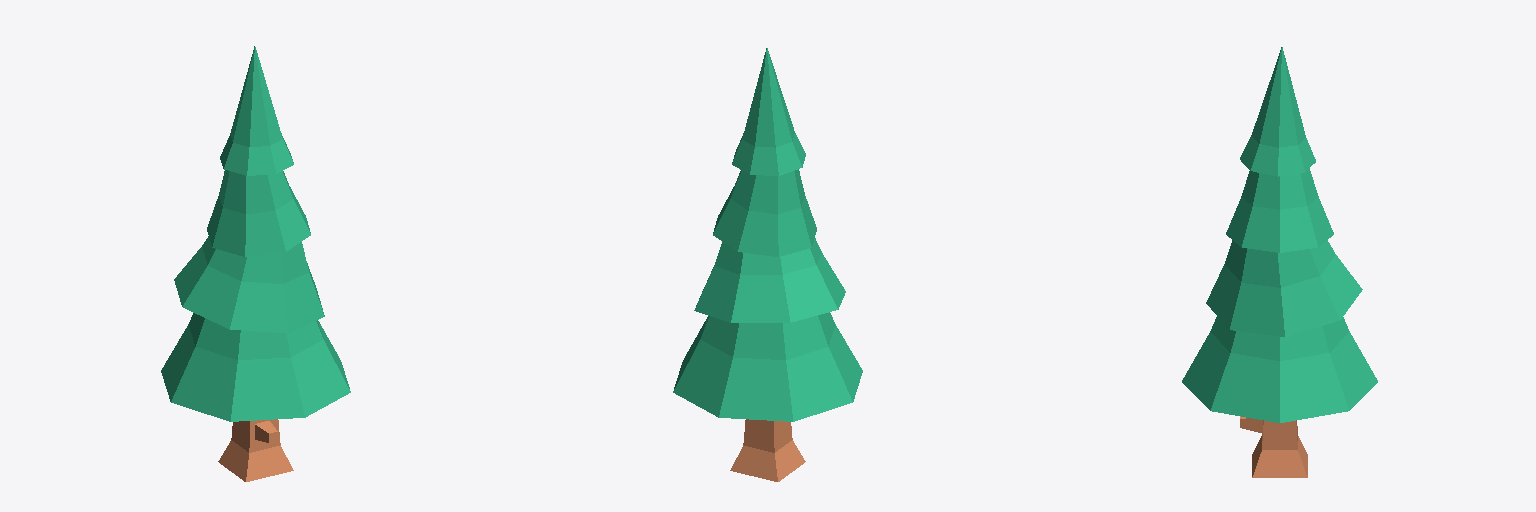
Rendered from treeCrooked.obj.
The picture shows the model from 3 angles: view 1: azimuth 30°, elevation 25°; view 2: azimuth 150°, elevation 25°; view 3: azimuth 270°, elevation 25°; orthographic projection.
Visible parts, largest first — view 1: treeCrooked; view 2: treeCrooked; view 3: treeCrooked.
Part boxes in pixels (left/top/right/bottom): treeCrooked: left=161, top=46, right=350, bottom=481; treeCrooked: left=673, top=48, right=862, bottom=481; treeCrooked: left=1182, top=47, right=1377, bottom=477.
Size of the model in its own units: 1.02 by 2.41 by 1.02.